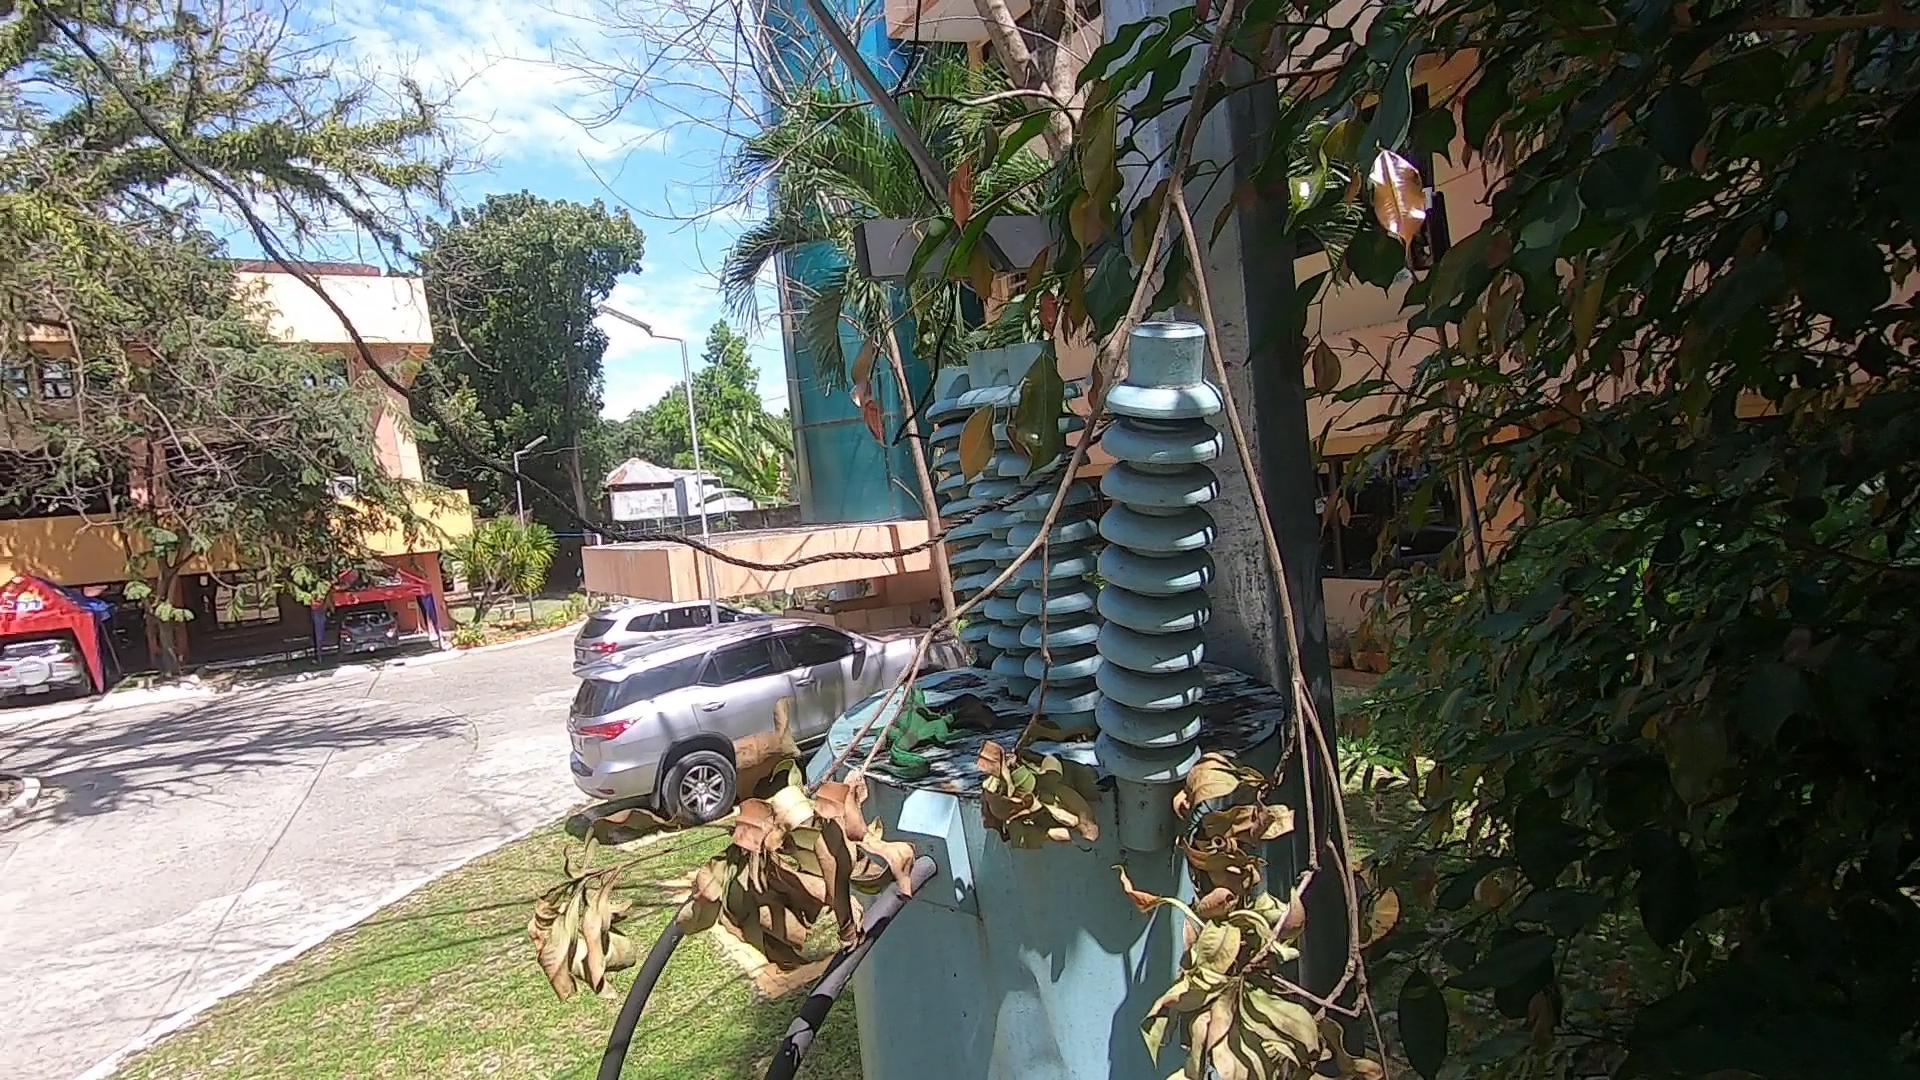leaf: (496, 1, 1419, 1071), (931, 694, 998, 735)
